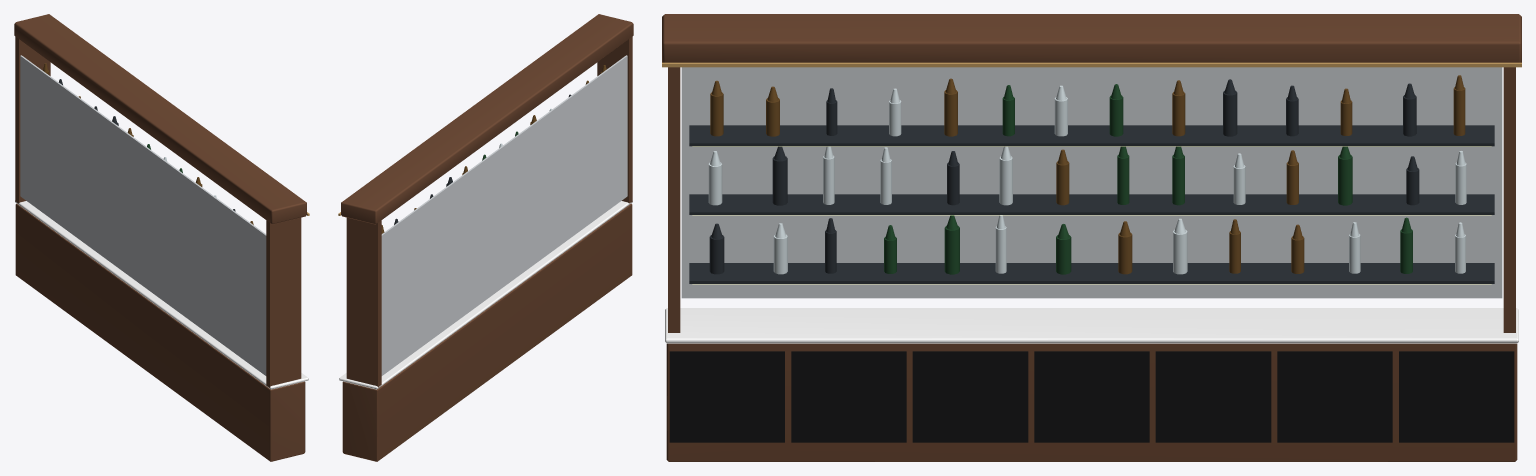
The model's file is back_bar.glb.
3 renders of one model, left to right at view 1: azimuth 30°, elevation 25°; view 2: azimuth 150°, elevation 25°; view 3: azimuth 270°, elevation 25°, orthographic. The views are drawn at different scales.
Parts seen in each view (by area): view 1: Mesh_Mirror, Mesh_Cabinet, Mesh_Cornice, Mesh_SideR, Mesh_Top, Mesh_SideL; view 2: Mesh_Mirror, Mesh_Cabinet, Mesh_Cornice, Mesh_SideL, Mesh_Top, Mesh_SideR; view 3: Mesh_Mirror, Mesh_Cornice, Mesh_Top, Mesh_Cabinet, Mesh_Shelf2, Mesh_Shelf1, Mesh_Shelf0, Mesh_Door2, Mesh_Door4, Mesh_Door0, Mesh_Door1, Mesh_Door3 (+5 smaller).
Boxes of the visible parts, x1,y1,x2,y2 form: Mesh_Mirror: (20, 55, 266, 375); Mesh_Cabinet: (15, 203, 305, 461); Mesh_Cornice: (14, 14, 306, 224); Mesh_SideR: (266, 217, 301, 387); Mesh_Top: (15, 200, 308, 389); Mesh_SideL: (15, 36, 50, 203); Mesh_Mirror: (381, 55, 627, 375); Mesh_Cabinet: (342, 203, 632, 461); Mesh_Cornice: (341, 14, 633, 224); Mesh_SideL: (346, 217, 381, 387); Mesh_Top: (339, 200, 632, 389); Mesh_SideR: (597, 36, 632, 203); Mesh_Mirror: (681, 67, 1502, 298); Mesh_Cornice: (662, 14, 1521, 62); Mesh_Top: (665, 308, 1518, 343); Mesh_Cabinet: (666, 343, 1517, 461); Mesh_Shelf2: (689, 125, 1494, 146); Mesh_Shelf1: (689, 194, 1494, 214); Mesh_Shelf0: (689, 263, 1494, 283); Mesh_Door2: (1155, 351, 1271, 442); Mesh_Door4: (912, 351, 1028, 442); Mesh_Door0: (1399, 351, 1514, 442); Mesh_Door1: (1277, 351, 1392, 442); Mesh_Door3: (1034, 351, 1149, 442).
Size of the model in its own units: 0.49 by 3.06 by 5.66.
